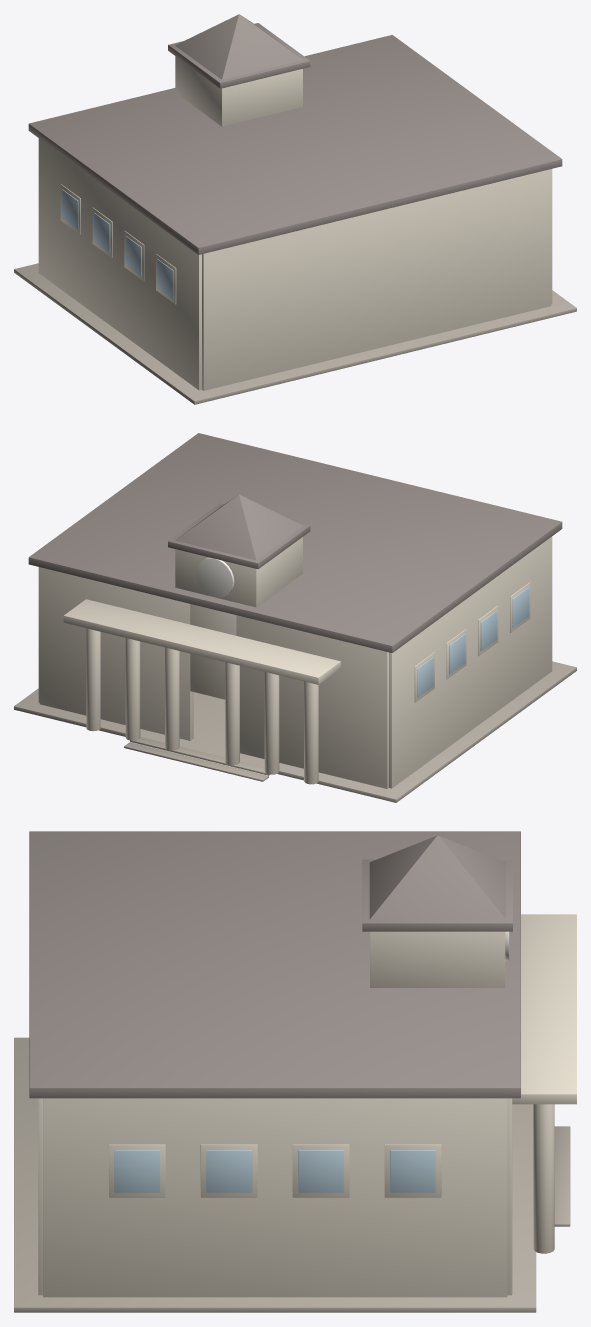
Rendered from th10_rathaus.glb.
3 renders of one model, top to bottom at view 1: azimuth 30°, elevation 25°; view 2: azimuth 150°, elevation 25°; view 3: azimuth 270°, elevation 25°, orthographic. The views are drawn at different scales.
Visible parts, largest first — view 1: Cube.031, Cube.007, Cube.008, Cube, Cube.032, Cone, Cube.033, Cube.010, Cube.012, Cube.014, Cube.016; view 2: Cube.031, Cube.008, Cube.004, Cube.005, Cube, Cube.026, Cone, Cube.032, Cube.006, Cube.033, Cylinder.002, Cylinder.008 (+11 smaller); view 3: Cube.031, Cube.017, Cube, Cube.026, Cone, Cube.032, Cylinder.010, Cube.033, Cube.019, Cube.021, Cube.023, Cube.025 (+7 smaller).
Boxes of the visible parts, x1=… form: Cube.031: x1=28, y1=35, x2=562, y2=254; Cube.007: x1=202, y1=169, x2=551, y2=390; Cube.008: x1=38, y1=138, x2=201, y2=390; Cube: x1=14, y1=263, x2=576, y2=404; Cube.032: x1=175, y1=56, x2=302, y2=126; Cone: x1=175, y1=14, x2=302, y2=79; Cube.033: x1=168, y1=23, x2=310, y2=88; Cube.010: x1=157, y1=259, x2=173, y2=299; Cube.012: x1=125, y1=236, x2=141, y2=276; Cube.014: x1=94, y1=212, x2=110, y2=252; Cube.016: x1=62, y1=189, x2=78, y2=229; Cube.031: x1=28, y1=433, x2=562, y2=652; Cube.008: x1=389, y1=536, x2=552, y2=788; Cube.004: x1=236, y1=615, x2=388, y2=788; Cube.005: x1=39, y1=567, x2=193, y2=740; Cube: x1=14, y1=661, x2=576, y2=802; Cube.026: x1=63, y1=599, x2=340, y2=684; Cone: x1=175, y1=494, x2=302, y2=560; Cube.032: x1=175, y1=537, x2=302, y2=607; Cube.006: x1=190, y1=604, x2=236, y2=699; Cube.033: x1=168, y1=503, x2=310, y2=569; Cylinder.002: x1=264, y1=672, x2=279, y2=774; Cylinder.008: x1=125, y1=638, x2=140, y2=740; Cube.031: x1=29, y1=831, x2=520, y2=1098; Cube.017: x1=43, y1=1098, x2=507, y2=1297; Cube: x1=14, y1=1037, x2=536, y2=1312; Cube.026: x1=512, y1=914, x2=576, y2=1104; Cone: x1=369, y1=835, x2=505, y2=919; Cube.032: x1=370, y1=931, x2=505, y2=987; Cylinder.010: x1=533, y1=1104, x2=554, y2=1253; Cube.033: x1=362, y1=859, x2=512, y2=931; Cube.019: x1=114, y1=1150, x2=160, y2=1192; Cube.021: x1=206, y1=1150, x2=252, y2=1192; Cube.023: x1=298, y1=1150, x2=343, y2=1192; Cube.025: x1=390, y1=1150, x2=435, y2=1192.
Size of the model in its own units: 33 by 19.52 by 29.1.
